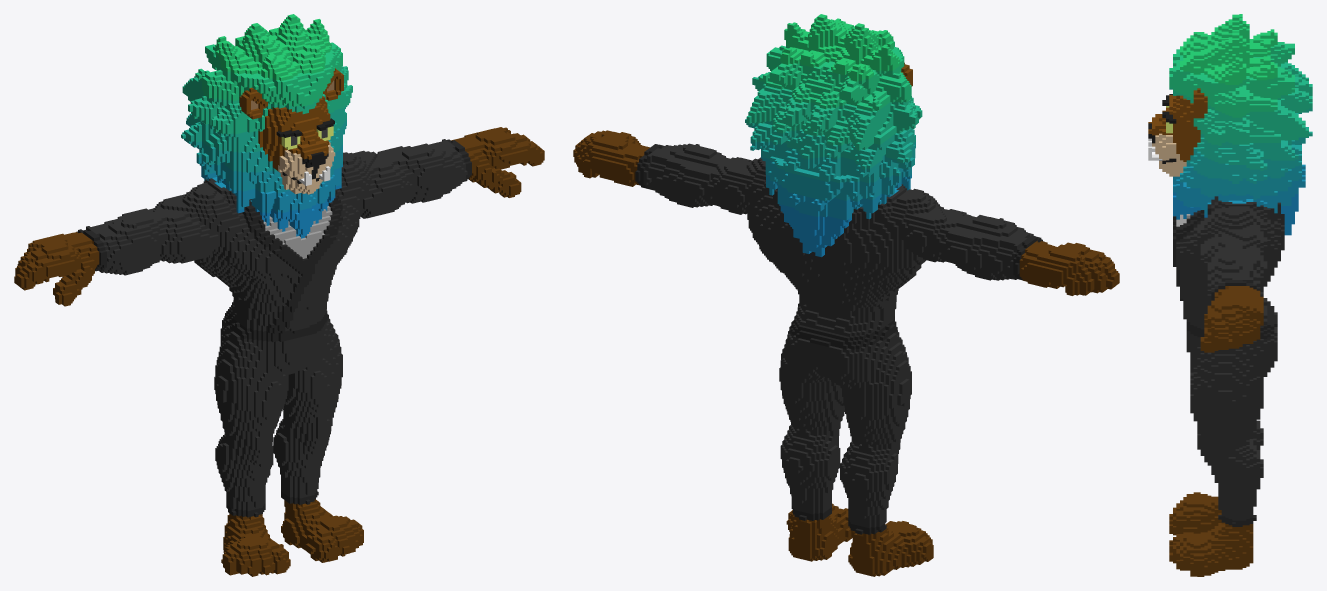
The picture shows the model from 3 angles, left to right: view 1: azimuth 30°, elevation 25°; view 2: azimuth 150°, elevation 25°; view 3: azimuth 270°, elevation 25°; orthographic projection. The views are drawn at different scales.
Visible parts, largest first — view 1: ork; view 2: ork; view 3: ork.
Part boxes in pixels (x1=…): ork: x1=14, y1=14, x2=544, y2=576; ork: x1=573, y1=14, x2=1119, y2=576; ork: x1=1148, y1=14, x2=1312, y2=576.
Bounding box in the file's own units: 17.2 × 16.5 × 4.7.
Materials: 5 (5 with a texture image).
